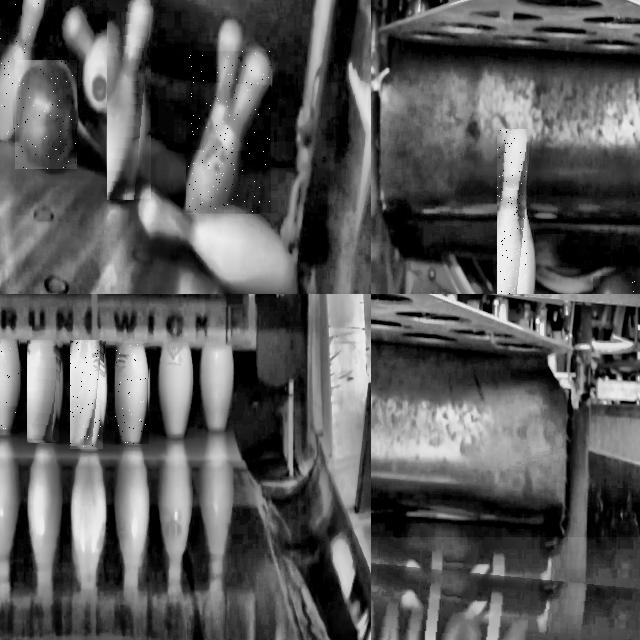bowling-ball: (15, 60, 77, 169), (598, 276, 636, 294)
bowling-pins: (186, 52, 271, 212), (107, 0, 151, 197), (0, 0, 44, 140), (497, 129, 527, 294), (115, 343, 149, 444), (71, 341, 101, 447), (160, 344, 193, 438), (28, 341, 57, 440), (201, 345, 234, 431), (0, 341, 19, 431)
